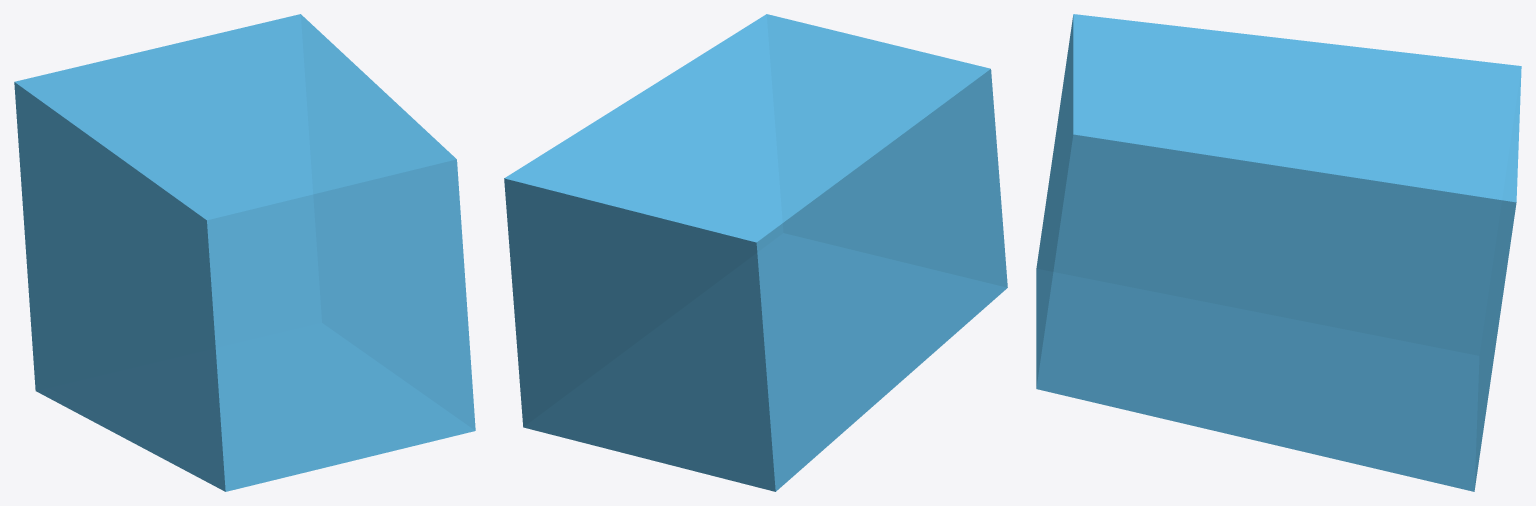
The model's file is Event_421127236_HBrechit_17.fbx.
The picture shows the model from 3 angles, left to right: view 1: azimuth 30°, elevation 25°; view 2: azimuth 150°, elevation 25°; view 3: azimuth 270°, elevation 25°; orthographic projection. The views are drawn at different scales.
Visible parts, largest first — view 1: Model; view 2: Model; view 3: Model.
Boxes of the visible parts, <box> form: Model: <box>14,14,475,491</box>; Model: <box>504,14,1007,491</box>; Model: <box>1036,14,1521,491</box>.
Bounding box in the file's own units: 0.5144 × 0.509 × 0.6878.
